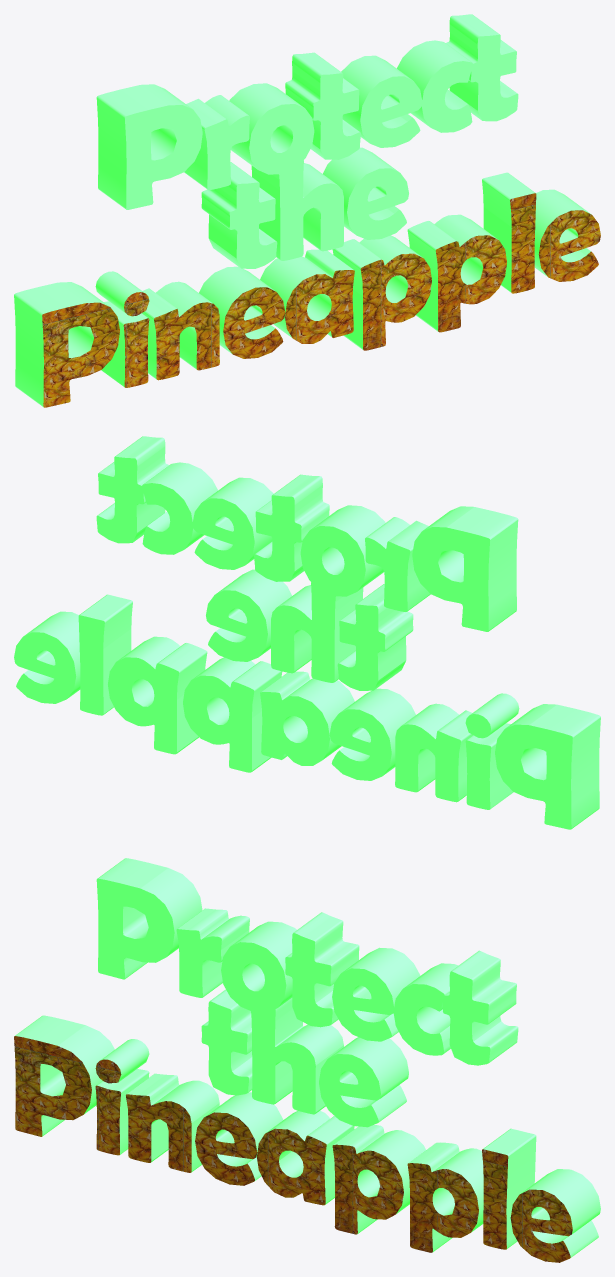
File: TitleScreem.FBX
3 renders of one model, top to bottom at view 1: azimuth 30°, elevation 25°; view 2: azimuth 150°, elevation 25°; view 3: azimuth 330°, elevation 25°, orthographic.
Visible parts, largest first — view 1: Text01; view 2: Text01; view 3: Text01.
Boxes of the visible parts, box(x1,y1,x2,y2) form: Text01: box(14, 14, 600, 407); Text01: box(14, 436, 600, 829); Text01: box(14, 858, 600, 1262).
Size of the model in its own units: 413 by 36 by 208.
Materials: 2 (1 with a texture image).
